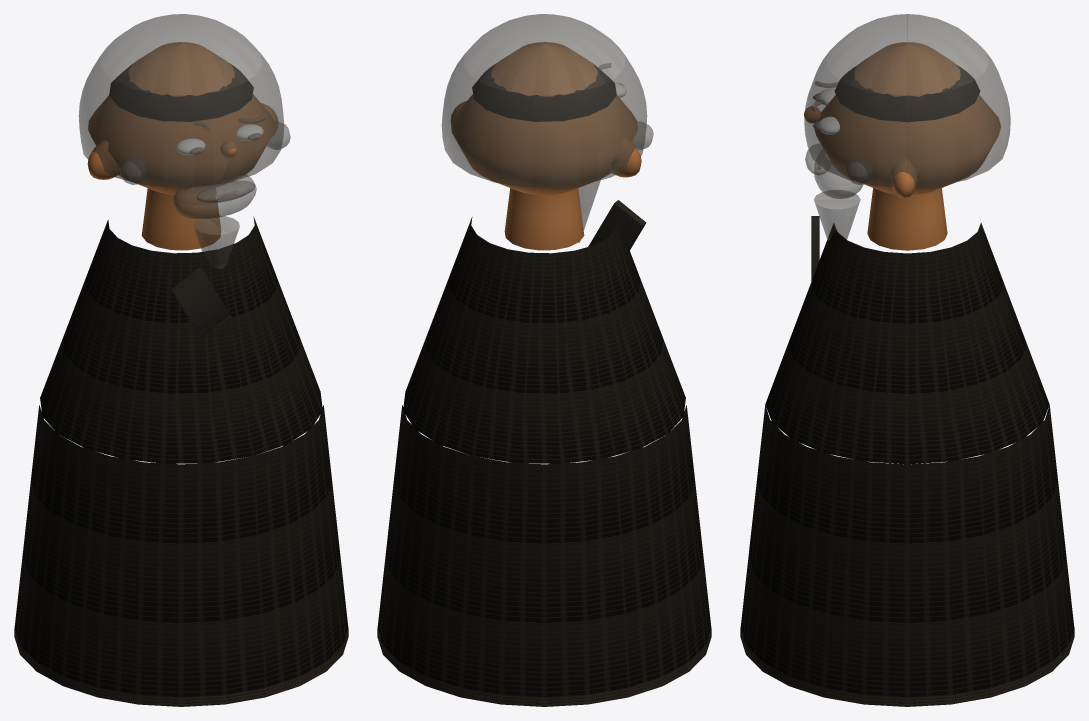
Rendered from malachi_moneychanger.glb.
3 views of the same model, side by side, from view 1: azimuth 30°, elevation 25°; view 2: azimuth 150°, elevation 25°; view 3: azimuth 270°, elevation 25° (orthographic).
Parts seen in each view (by area): view 1: Character_malachi_the_money_changer, head; view 2: Character_malachi_the_money_changer, head; view 3: Character_malachi_the_money_changer, head.
Part boxes in pixels (x1,y1,x2,y2): Character_malachi_the_money_changer: (14,14,348,706); head: (88,42,274,194); Character_malachi_the_money_changer: (377,14,711,706); head: (451,42,637,195); Character_malachi_the_money_changer: (740,14,1074,706); head: (814,42,1000,194).
Bounding box in the file's own units: 0.8903 × 1.8 × 0.8903.
Materials: 10 (6 with a texture image).
